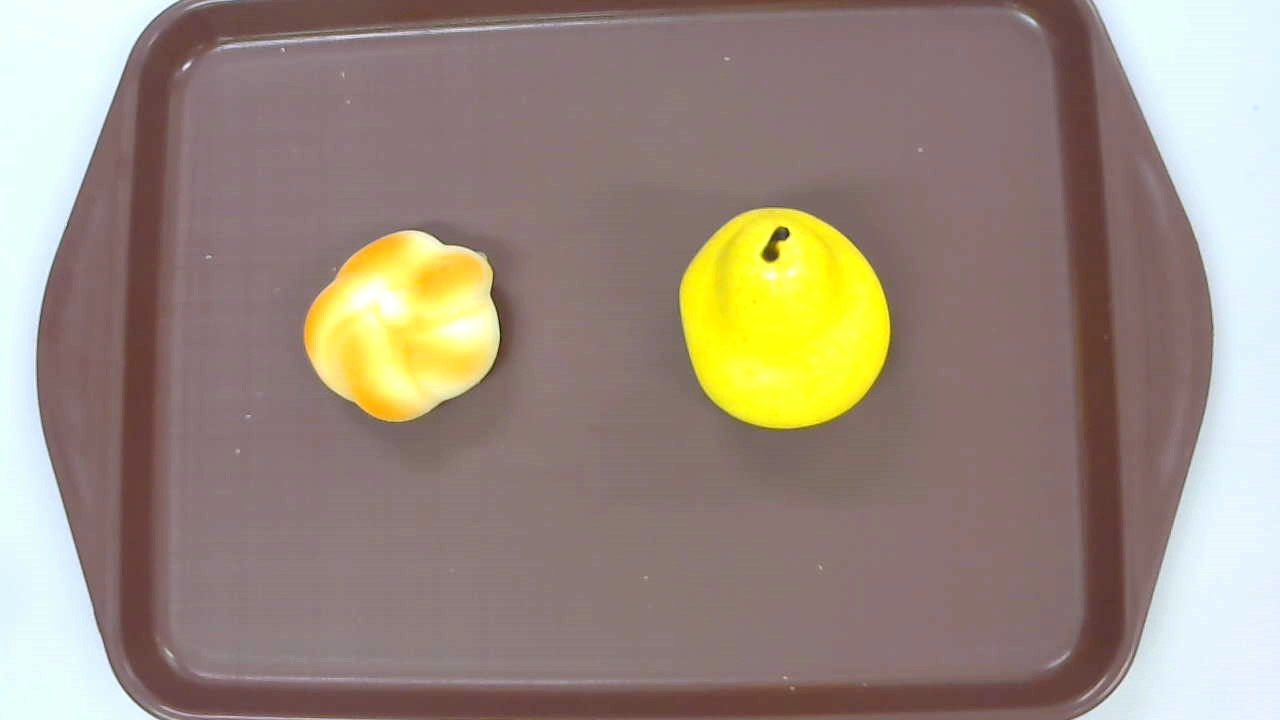twist bread: (303, 230, 499, 424)
yellow pear: (677, 206, 891, 429)
